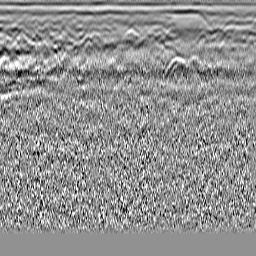cavity: (121, 27, 139, 43)
